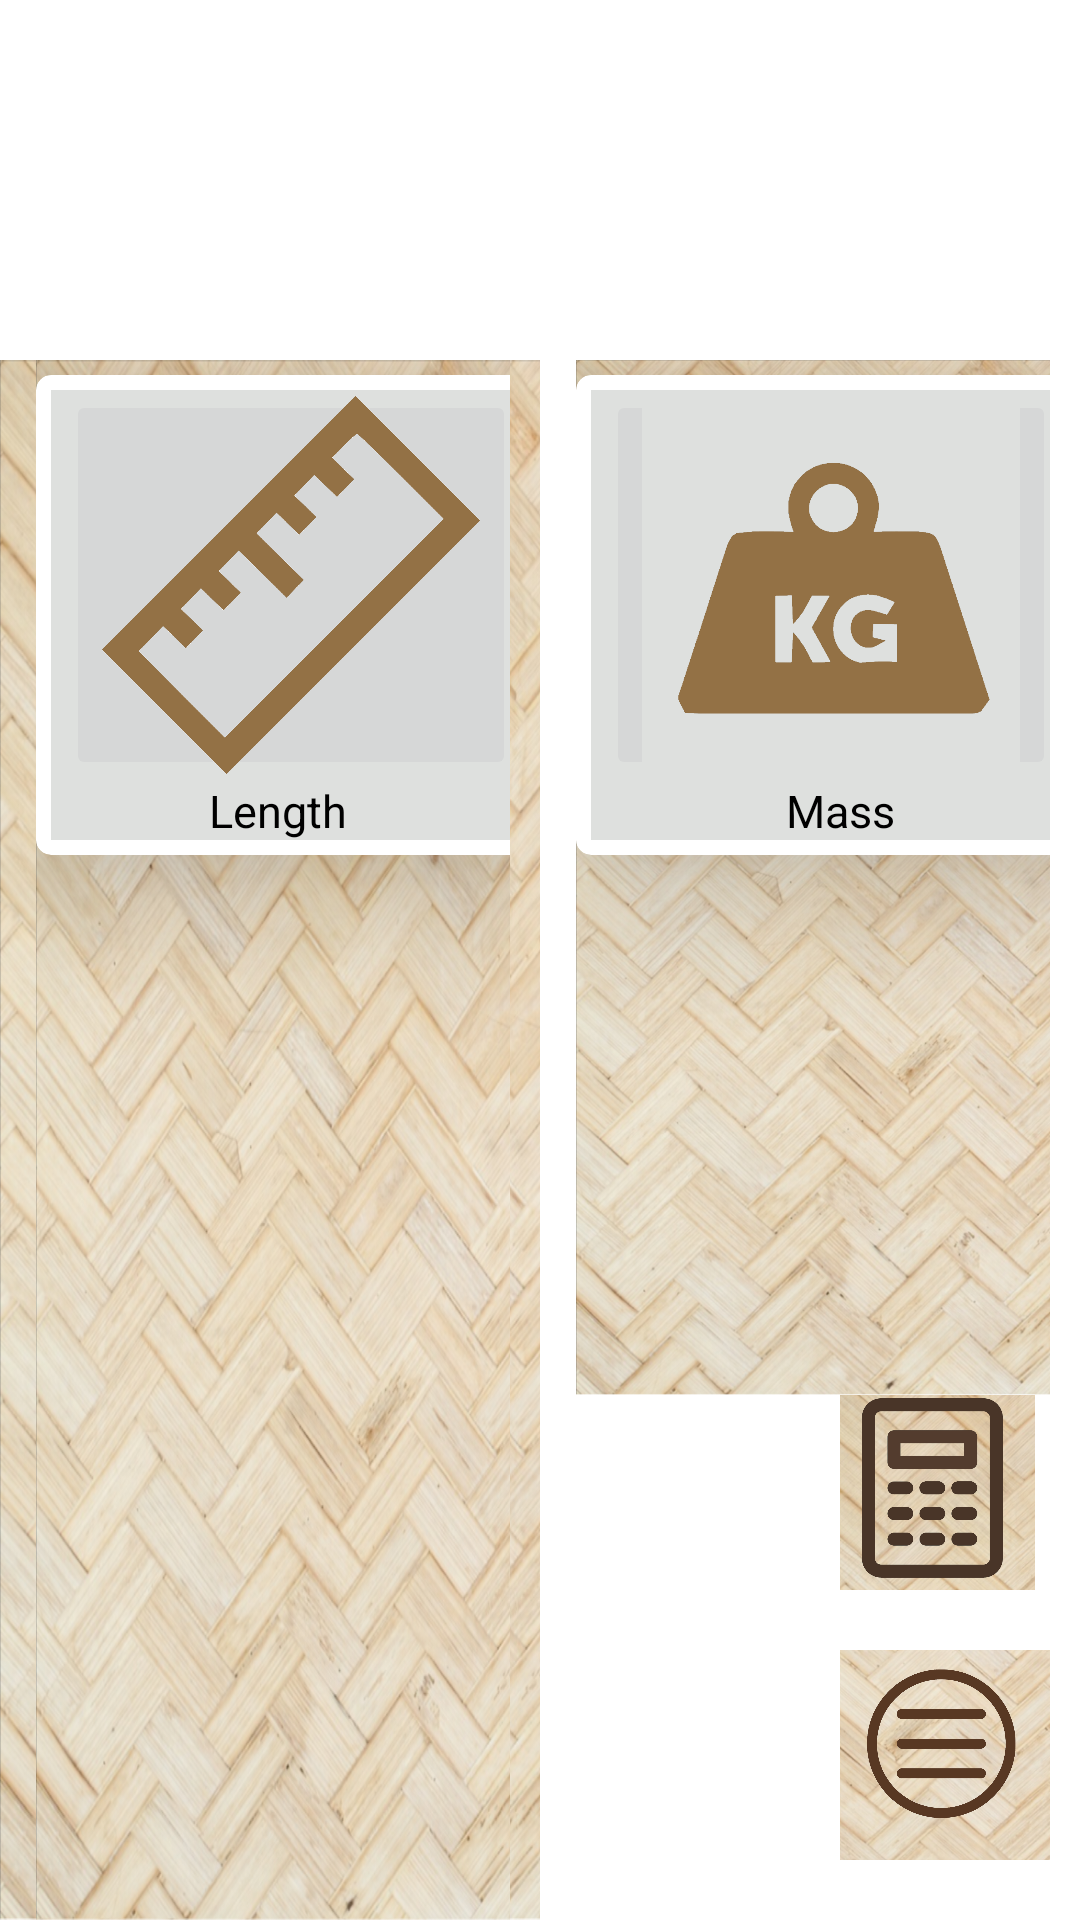

Icon bounding boxes for this 1080w x 1920h phone screenshot, format (x1, y1, x2, y2):
weight: (678, 463, 990, 714)
